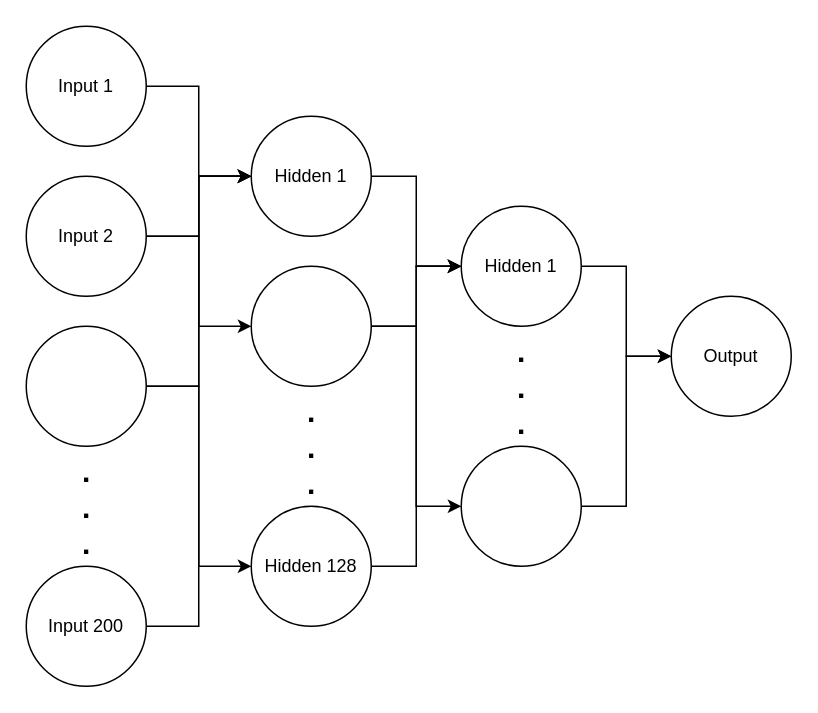
Image size: 818x713. Some labels were removed from this diagram. Here are the shapes that lost their labels. From the top down, the centre of each, then its label:
(310,325): Hidden 2
(85,385): Input 3
(520,505): Hidden 64
